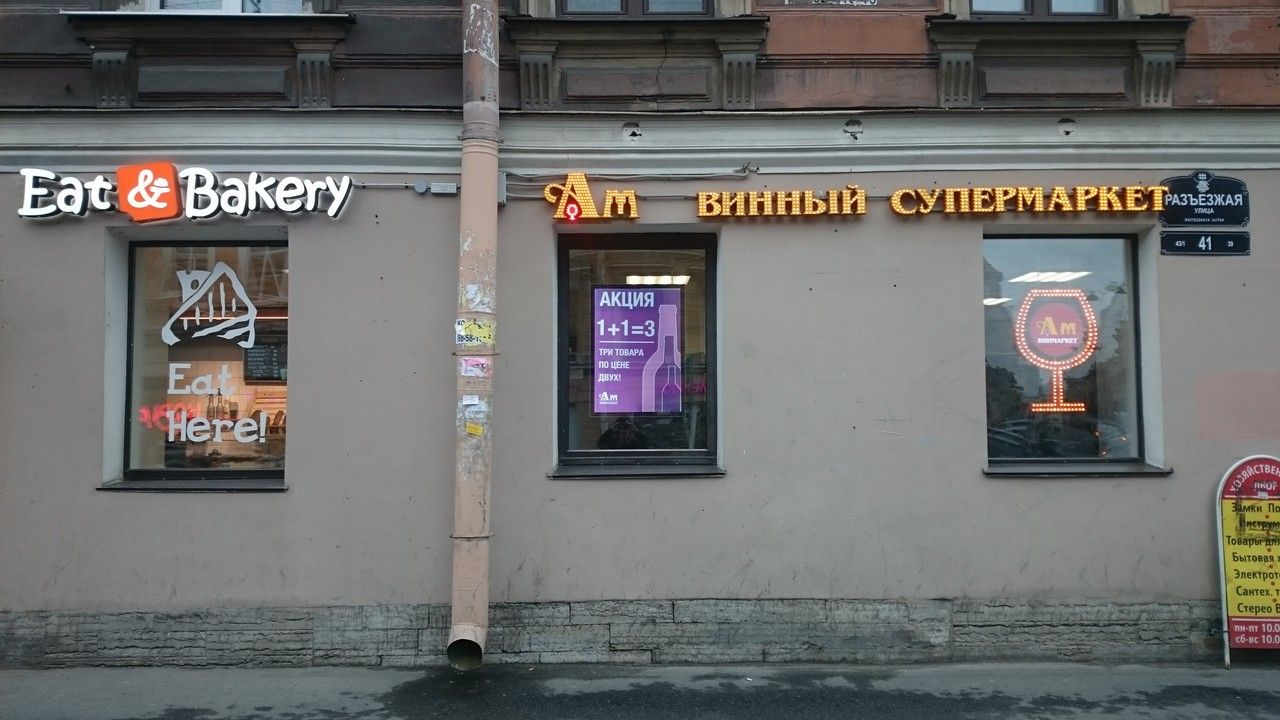signboard: (546, 171, 1166, 217), (18, 162, 351, 217)
window: (126, 238, 294, 481), (561, 237, 715, 466), (986, 237, 1136, 467)
